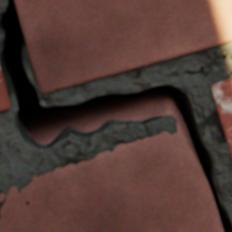brick: (0, 121, 222, 231), (14, 0, 231, 93), (211, 78, 231, 157), (0, 64, 10, 110), (160, 112, 169, 114)
crack: (0, 0, 231, 231)
